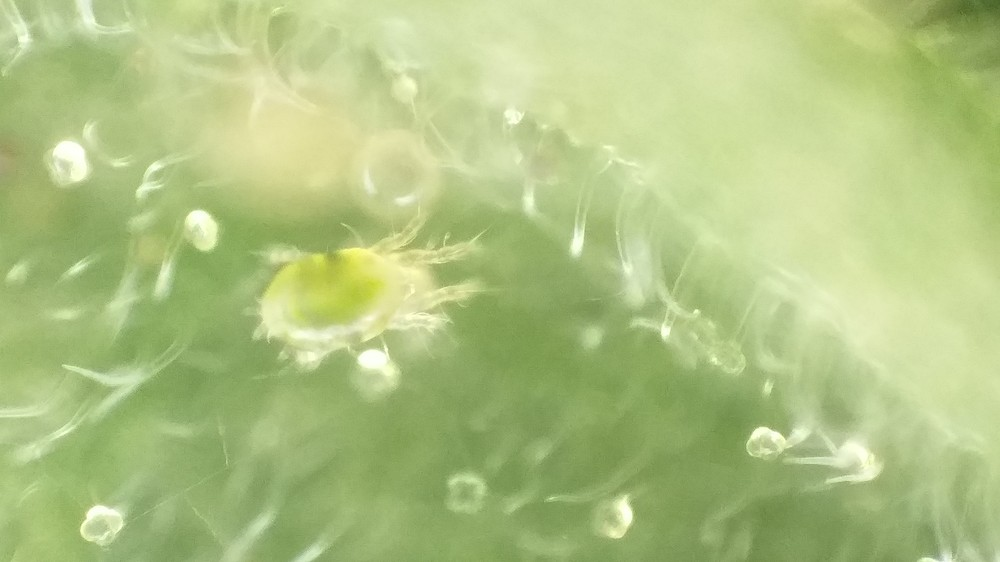Aracnido Rojo: (250, 212, 489, 373)
